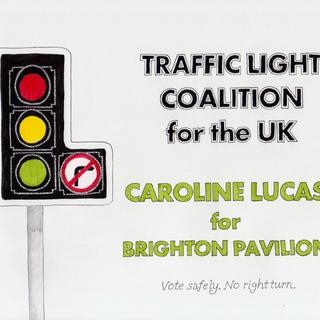no_right_turn: (59, 152, 101, 193)
